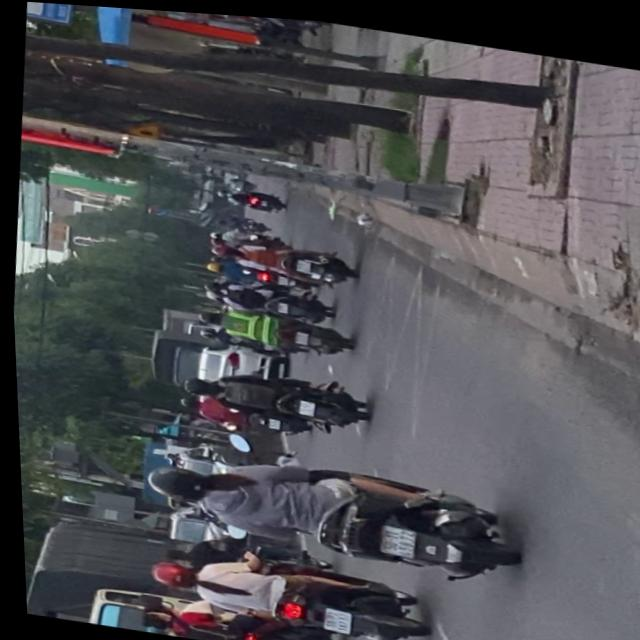helmet: (138, 460, 206, 502), (144, 557, 191, 589)
licenseplate: (129, 434, 523, 588), (138, 539, 429, 640), (129, 594, 340, 640)
motorcyclist: (130, 606, 169, 631)
nohelmet: (375, 519, 410, 552), (316, 603, 346, 628), (266, 635, 288, 640)
